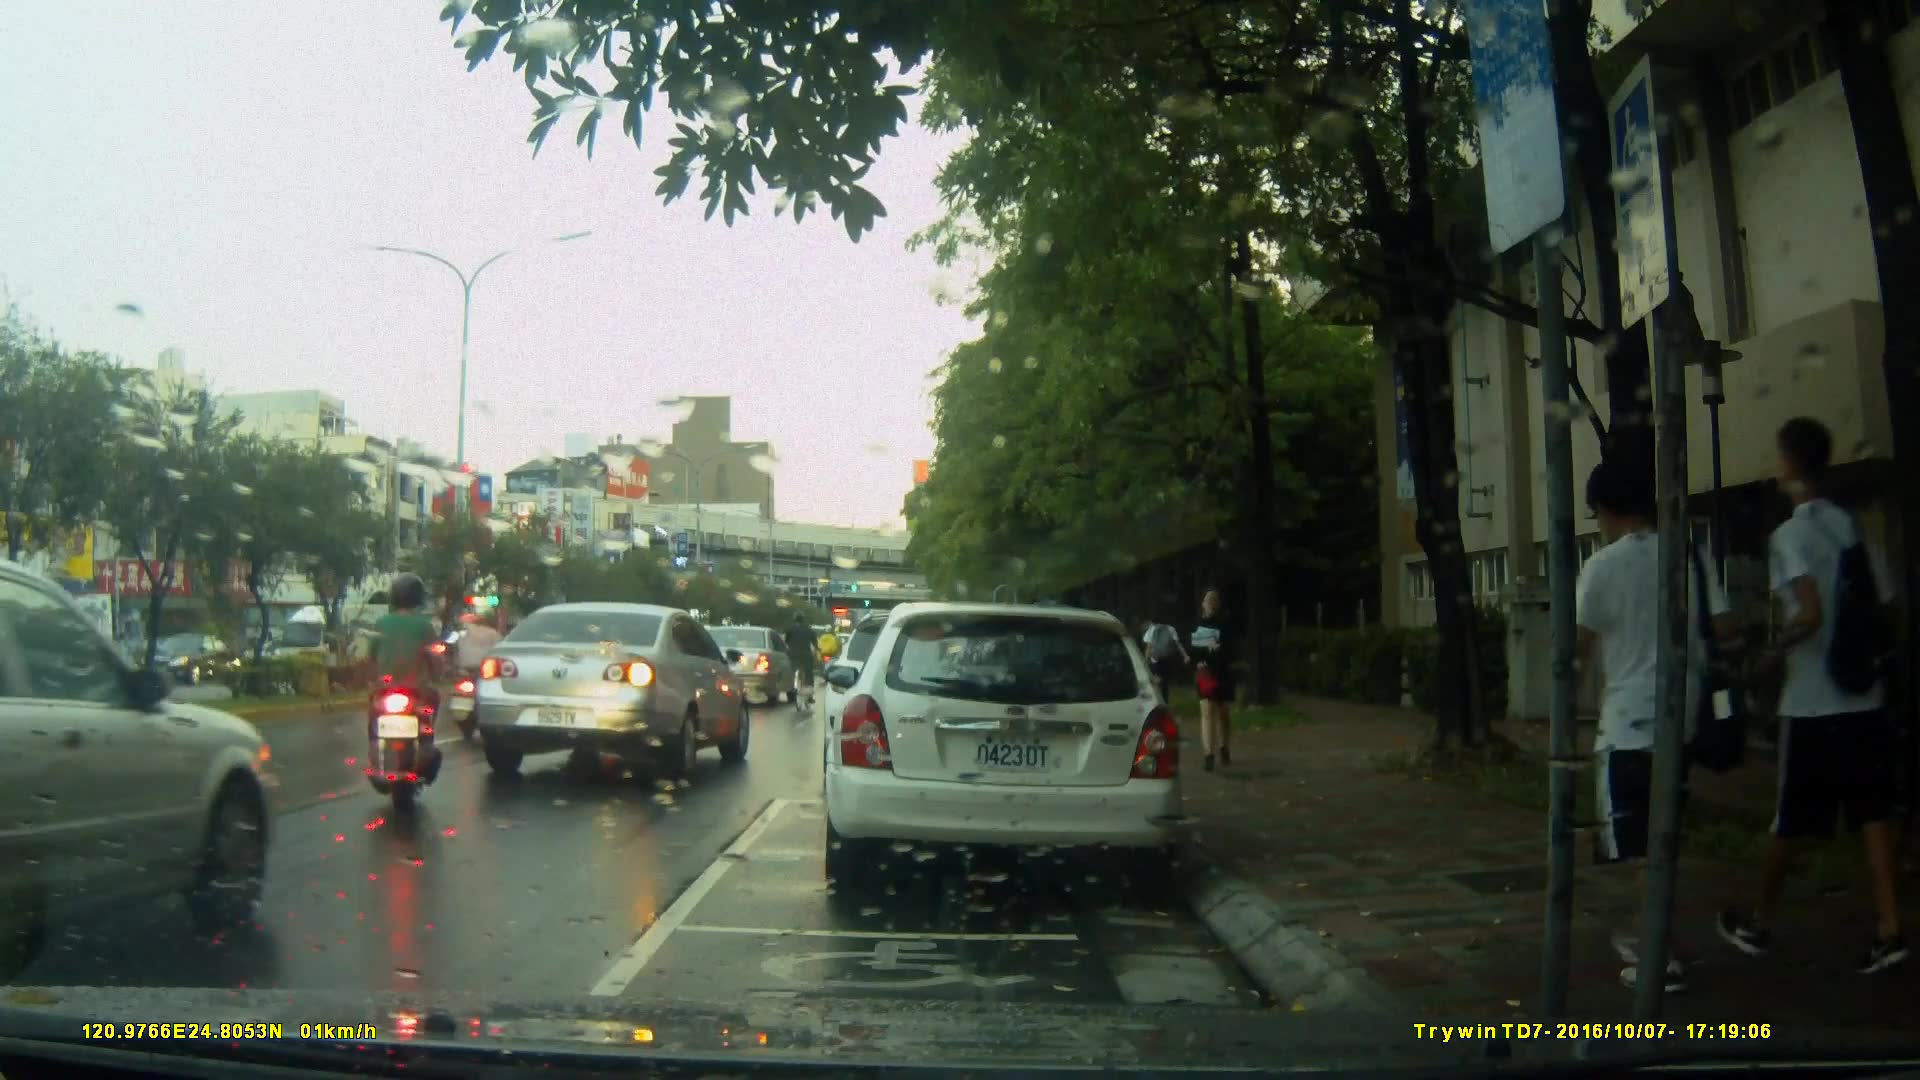pedestrian: (1548, 445, 1715, 984), (1729, 422, 1839, 959), (1174, 577, 1238, 773), (1144, 604, 1192, 732)
rider: (364, 576, 453, 817), (448, 596, 513, 741), (779, 612, 812, 717), (815, 623, 842, 692)
vehicle: (1, 553, 286, 985), (820, 602, 1188, 898), (469, 597, 756, 784), (672, 625, 800, 708)
